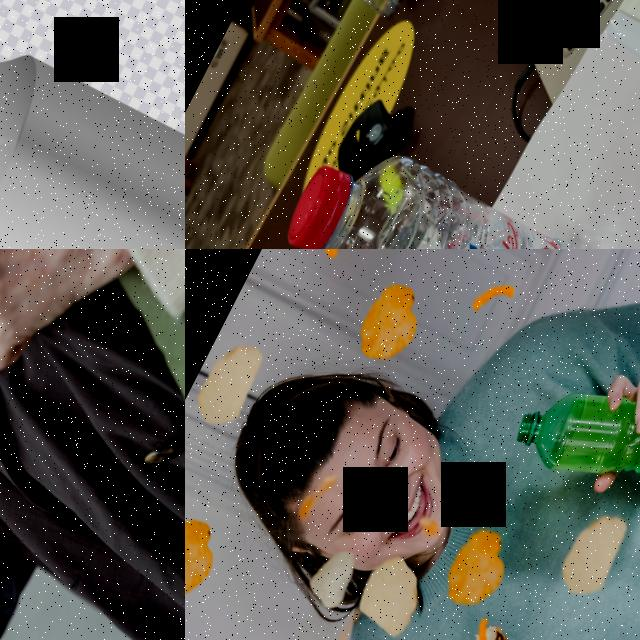bottle: (266, 109, 638, 249), (502, 349, 640, 523)
can: (0, 16, 185, 249)
